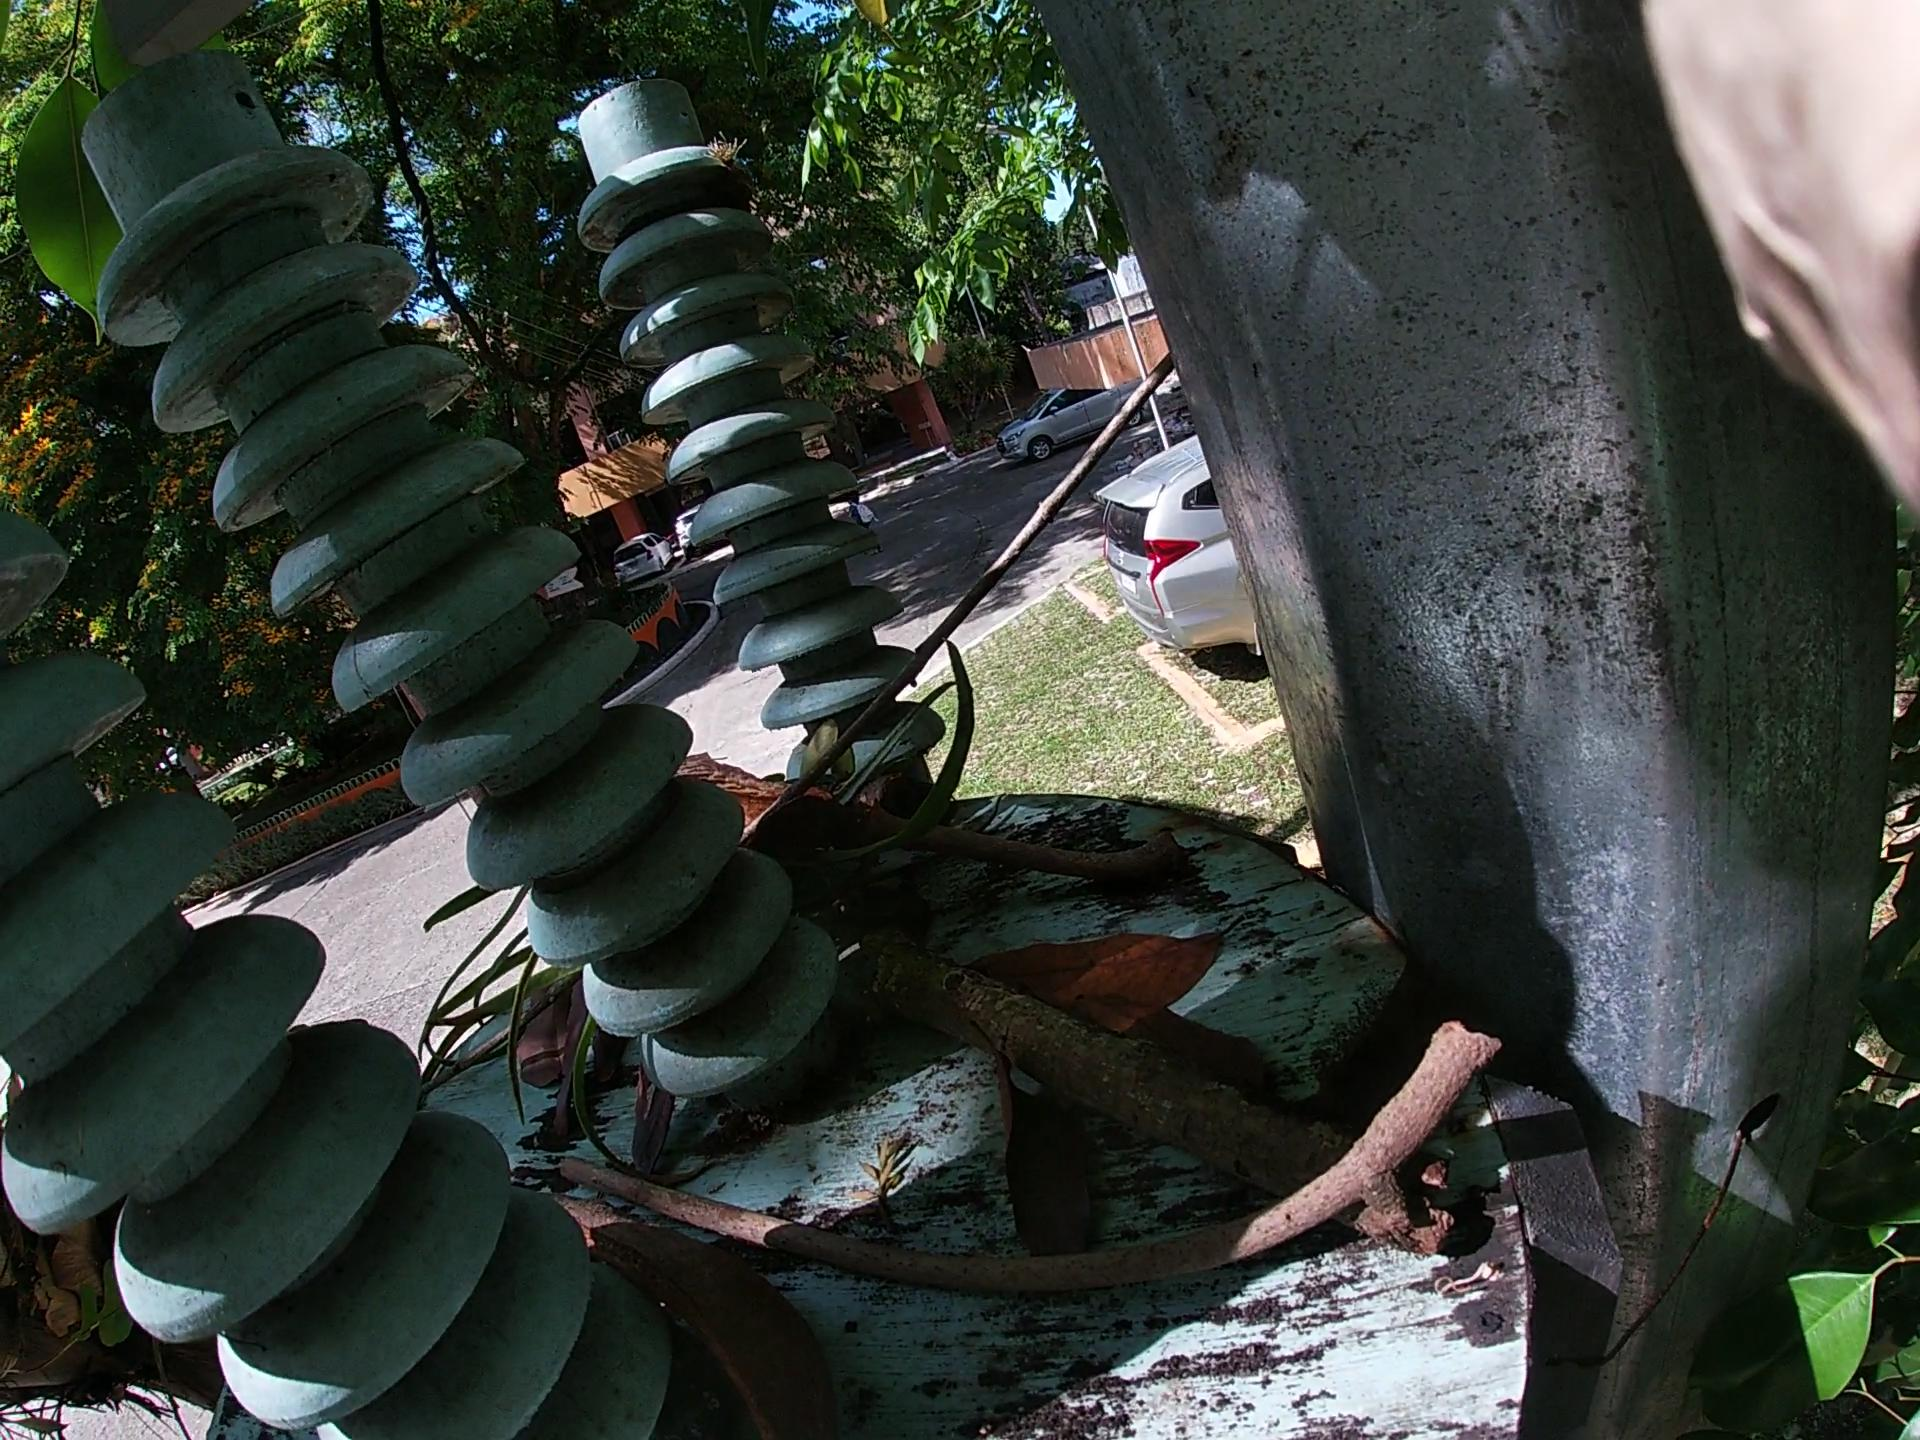branch with leaves: (472, 734, 1143, 1097)
leaf: (841, 824, 1184, 1190)
mahogany fruit: (475, 1162, 863, 1395), (603, 702, 863, 846)
tree branch: (537, 436, 1128, 1019), (568, 1190, 1432, 1304)
